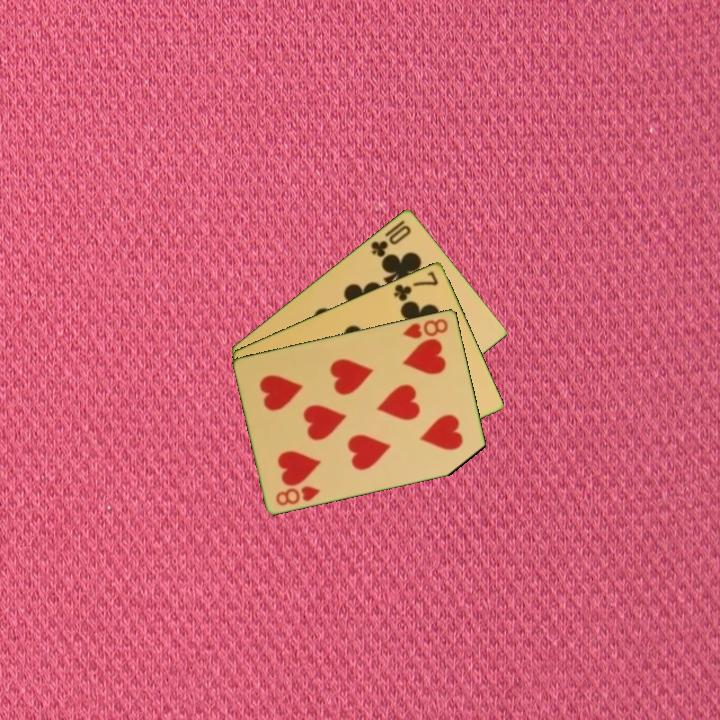10c: (367, 221, 414, 260)
7c: (390, 267, 441, 304)
8h: (399, 315, 451, 341), (272, 482, 323, 508)
